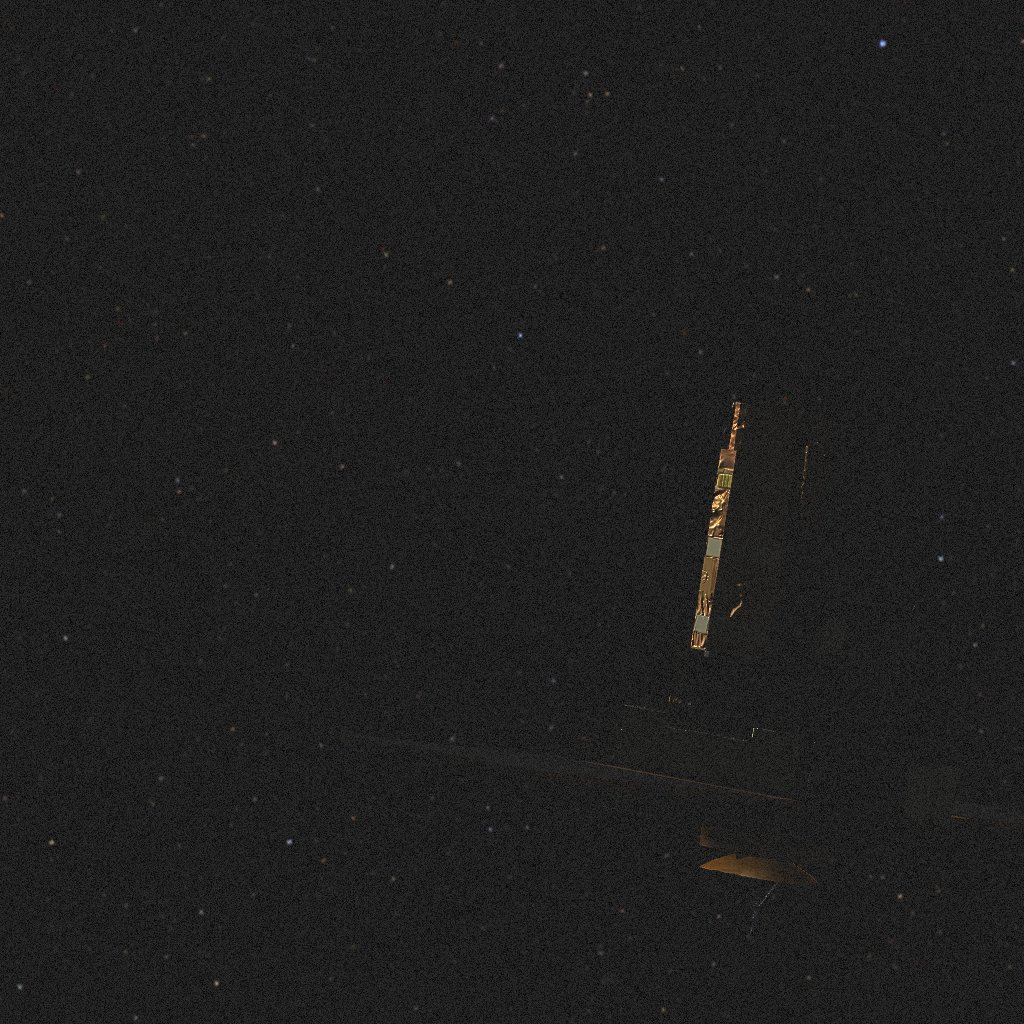soho: (328, 402, 1024, 934)
